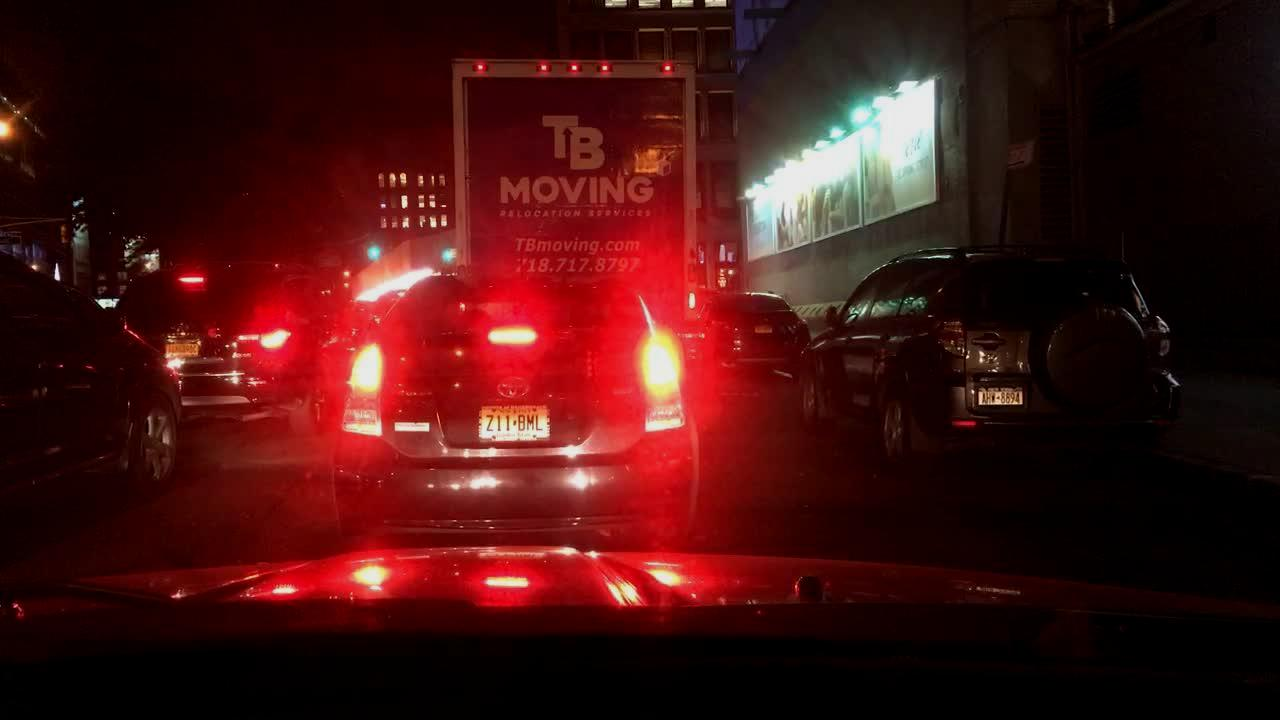Toyota: (493, 376, 542, 406)
